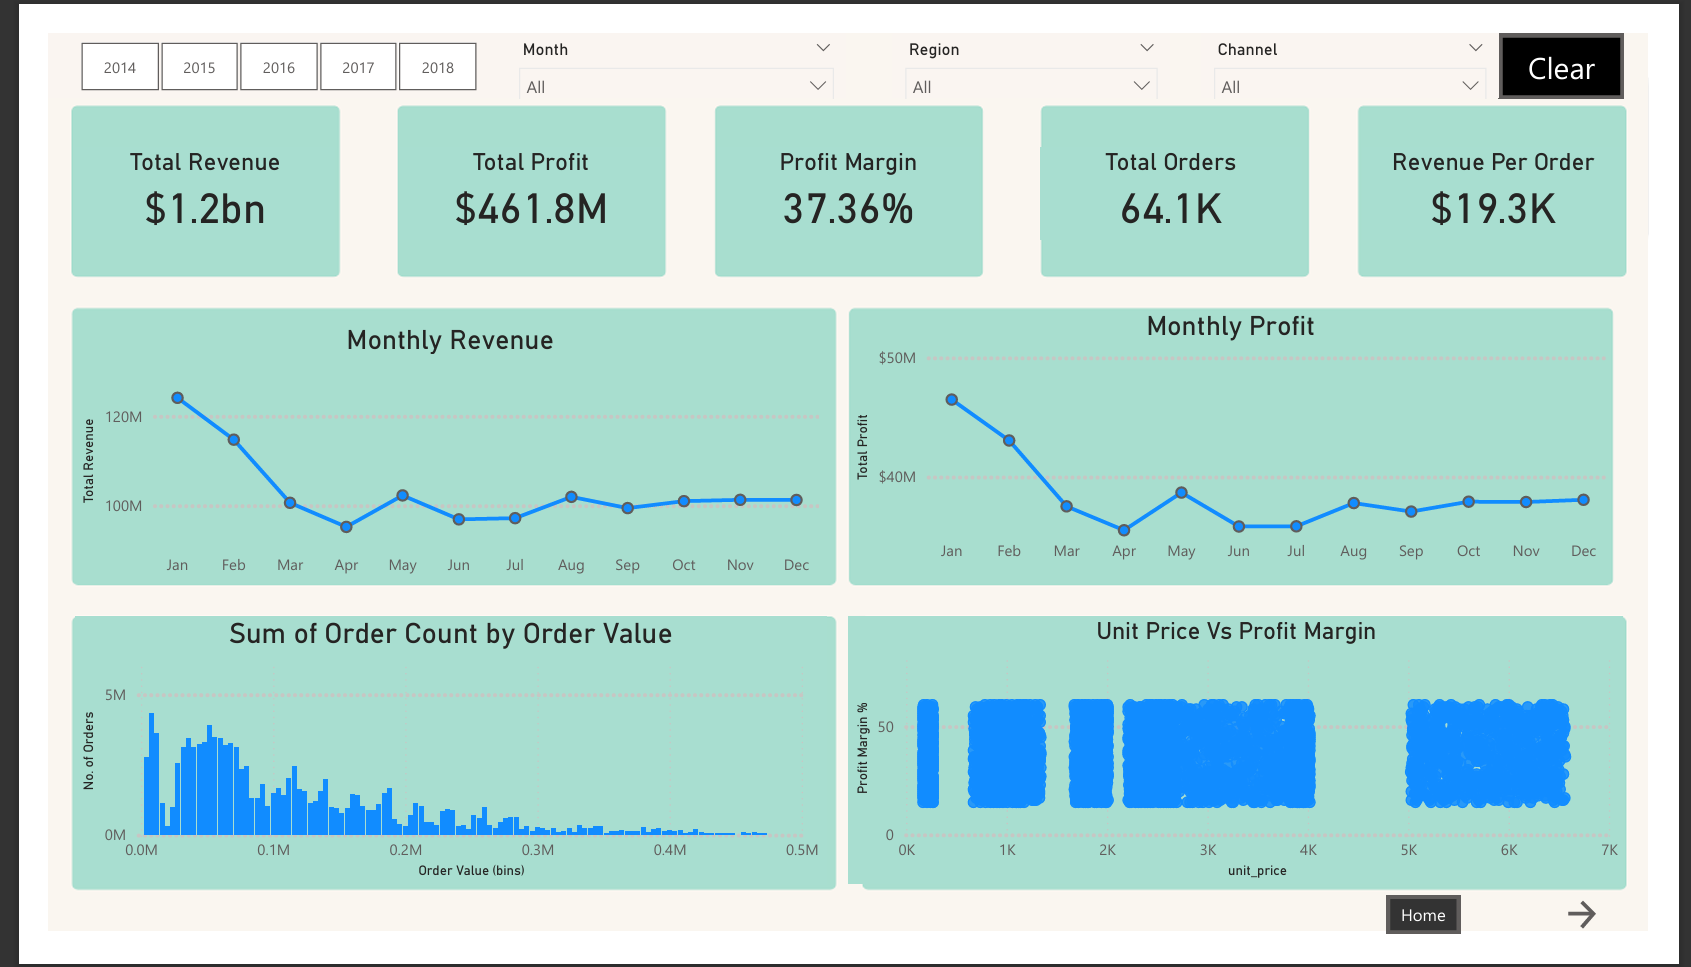

What the dashboard file says about the page in this screenshot:
{"tool":"powerbi","page":{"name":"Executive Overview ","canvas":[1280,720],"ordinal":1},"visuals":[{"type":"card","title":"Total Revenue","fields":{"Values":["Sum(Sales_data(EDA Exported).revenue)"]},"box":[20.6,90.6,208.6,74.1],"z":0},{"type":"slicer","fields":{"Values":["Sales_data(EDA Exported).Year"]},"box":[0,0,365.9,52],"z":1000},{"type":"card","title":"Total Profit","fields":{"Values":["Sum(Sales_data(EDA Exported).profit)"]},"box":[281.3,90.6,208.6,74.1],"z":2000},{"type":"slicer","fields":{"Values":["Sales_data(EDA Exported).Order Month Name"]},"box":[365.9,0,272.5,52],"z":3000},{"type":"card","title":"Profit Margin","fields":{"Values":["Query1.Profit Margin"]},"box":[535.2,90.6,208.6,74.1],"z":4000},{"type":"slicer","fields":{"Values":["Sales_data(EDA Exported).region"]},"box":[675.1,0,222,52],"z":5000},{"type":"card","title":"Total Orders","fields":{"Values":["CountNonNull(Sales_data(EDA Exported).order_quantity)"]},"box":[793.1,90.6,208.6,74.1],"z":6000},{"type":"card","title":"Revenue Per Order","fields":{"Values":["Query1.Revenue per order"]},"box":[1051.1,90.6,208.6,74.1],"z":7000},{"type":"lineChart","title":"Monthly Revenue","fields":{"Category":["Sales_data(EDA Exported).Order Month Name"],"Y":["Query1.Total Revenue"]},"box":[20.9,231.8,599.8,210.9],"z":8000},{"type":"lineChart","title":"Monthly Profit","fields":{"Category":["Sales_data(EDA Exported).Order Month Name"],"Y":["Sum(Sales_data(EDA Exported).profit)"]},"box":[640.2,221.1,611.2,211.1],"z":9000},{"type":"lineClusteredColumnComboChart","title":"Sum of Order Count by Order Value ","fields":{"Category":["Order Summary.Order Value (bins)"],"Y":["Sum(Order Summary.Order Count)"]},"box":[20.6,465.6,601.1,215],"z":10000},{"type":"scatterChart","title":"Unit Price Vs Profit Margin","fields":{"X":["Sales_data(EDA Exported).unit_price"],"Y":["Sales_data(EDA Exported).profit_margin_pct"]},"box":[640.2,466.1,620.2,214.1],"z":11000},{"type":"actionButton","title":"Clear","box":[1160.3,0,99.5,52],"z":12000},{"type":"slicer","fields":{"Values":["Sales_data(EDA Exported).channel"]},"box":[921.5,0,238.8,52],"z":13000},{"type":"actionButton","box":[1070.3,689.2,59,31],"z":14000},{"type":"actionButton","box":[1210.4,689.2,49,31],"z":15000}]}

Visuals, with their boxes in screenshot pixels (x1, y1, x2, y2), scaled from the page's 1280x720 canvas onto the 1691x967 screenshot:
"Total Revenue" card: (x1=27, y1=122, x2=303, y2=221)
slicer - Sales_data(EDA Exported).Year: (x1=0, y1=0, x2=483, y2=70)
"Total Profit" card: (x1=372, y1=122, x2=647, y2=221)
slicer - Sales_data(EDA Exported).Order Month Name: (x1=483, y1=0, x2=843, y2=70)
"Profit Margin" card: (x1=707, y1=122, x2=983, y2=221)
slicer - Sales_data(EDA Exported).region: (x1=892, y1=0, x2=1185, y2=70)
"Total Orders" card: (x1=1048, y1=122, x2=1323, y2=221)
"Revenue Per Order" card: (x1=1389, y1=122, x2=1664, y2=221)
"Monthly Revenue" lineChart: (x1=28, y1=311, x2=820, y2=595)
"Monthly Profit" lineChart: (x1=846, y1=297, x2=1653, y2=580)
"Sum of Order Count by Order Value " lineClusteredColumnComboChart: (x1=27, y1=625, x2=821, y2=914)
"Unit Price Vs Profit Margin" scatterChart: (x1=846, y1=626, x2=1665, y2=914)
"Clear" actionButton: (x1=1533, y1=0, x2=1664, y2=70)
slicer - Sales_data(EDA Exported).channel: (x1=1217, y1=0, x2=1533, y2=70)
actionButton: (x1=1414, y1=926, x2=1492, y2=966)
actionButton: (x1=1599, y1=926, x2=1664, y2=966)
